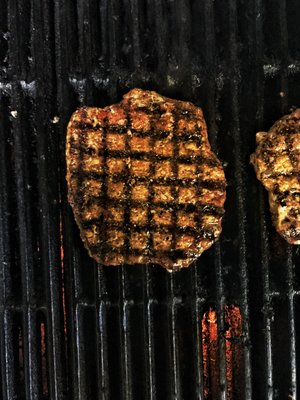sushi: (64, 88, 227, 273)
